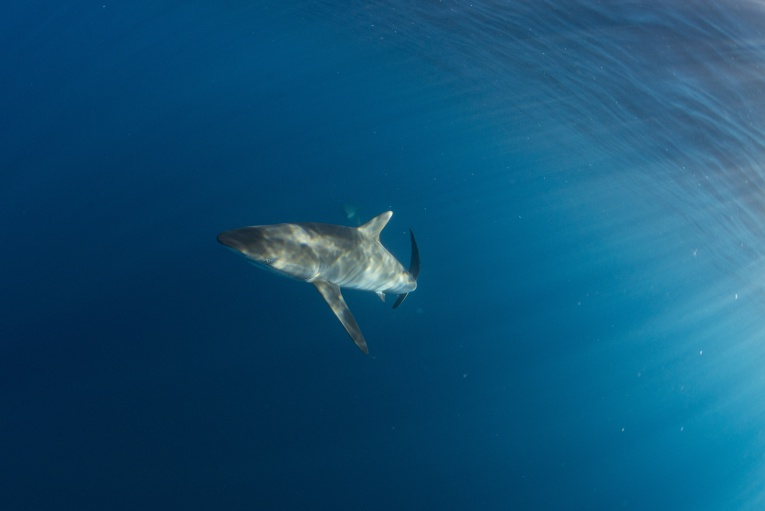Sedoso: (183, 180, 448, 373)
